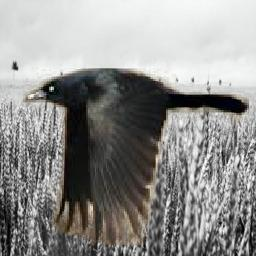Crow: (21, 65, 249, 246)
